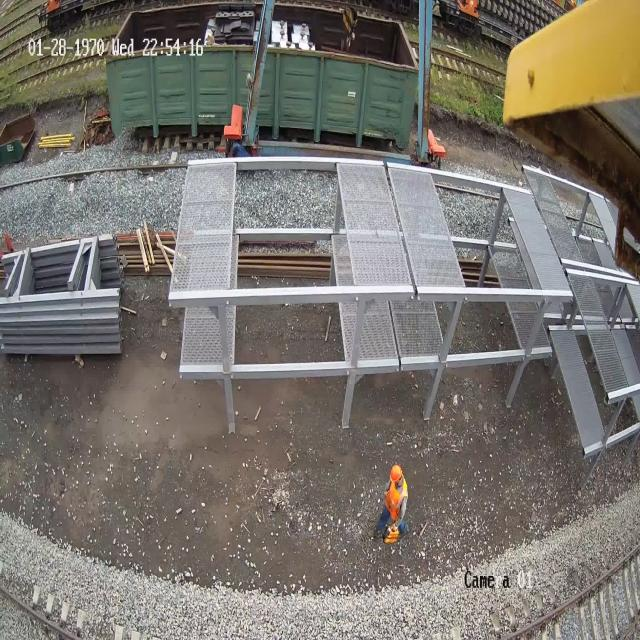Helmet: (390, 464, 402, 482)
Person: (376, 464, 408, 540)
